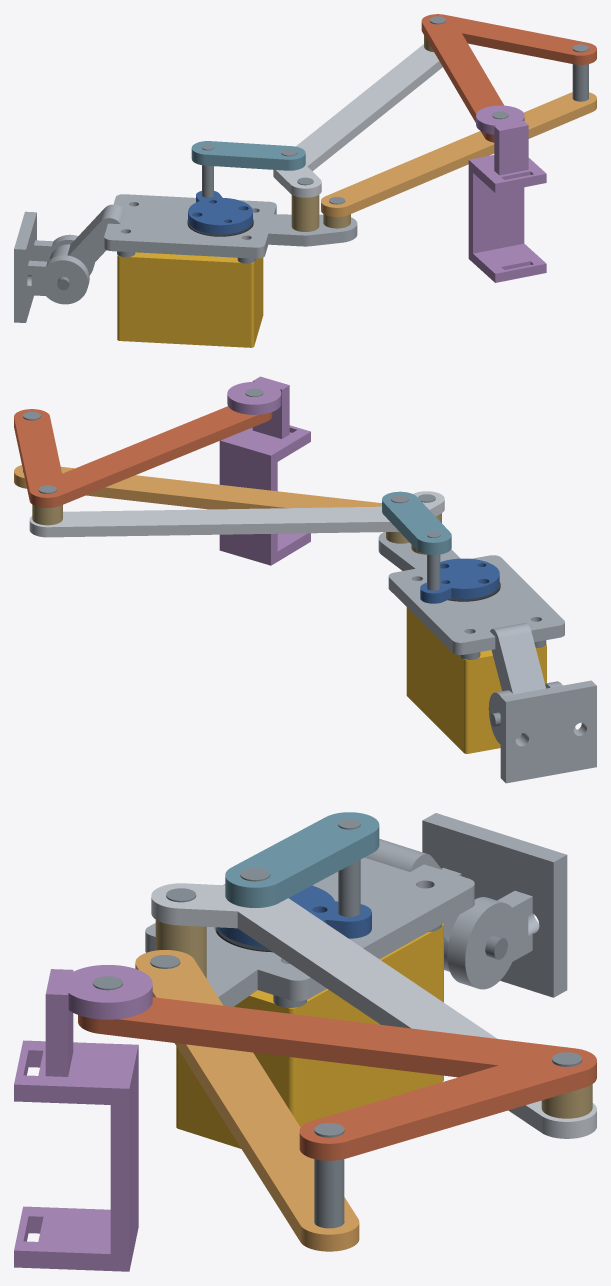
Rendered from thumb_straight.glb.
3 renders of one model, top to bottom at view 1: azimuth 30°, elevation 25°; view 2: azimuth 150°, elevation 25°; view 3: azimuth 270°, elevation 25°, orthographic. The views are drawn at different scales.
Parts seen in each view (by area): view 1: 09_DC15_A01_reference_envelope, 01_servo_carrier_ADE_and_hinge_rotor, 08_distal_saddle_R4, 06_output_FGH, 05_coupler_EF, 04_rocker_CDG, 11_palm_hinge_clevis_interface, 03_coupler_BC, 02_input_AB_servo_disc, spacer_D, pin_F, pin_B; view 2: 01_servo_carrier_ADE_and_hinge_rotor, 06_output_FGH, 04_rocker_CDG, 11_palm_hinge_clevis_interface, 08_distal_saddle_R4, 09_DC15_A01_reference_envelope, 05_coupler_EF, 03_coupler_BC, 02_input_AB_servo_disc, pin_B, spacer_G; view 3: 06_output_FGH, 08_distal_saddle_R4, 11_palm_hinge_clevis_interface, 04_rocker_CDG, 05_coupler_EF, 01_servo_carrier_ADE_and_hinge_rotor, 09_DC15_A01_reference_envelope, 03_coupler_BC, pin_F, 02_input_AB_servo_disc, spacer_D, pin_B (+1 smaller).
Part boxes in pixels (x1,y1,x2,y2): 09_DC15_A01_reference_envelope: (117, 252, 263, 347); 01_servo_carrier_ADE_and_hinge_rotor: (49, 194, 357, 270); 08_distal_saddle_R4: (468, 105, 546, 282); 06_output_FGH: (421, 14, 596, 142); 05_coupler_EF: (321, 92, 596, 216); 04_rocker_CDG: (273, 44, 442, 197); 11_palm_hinge_clevis_interface: (14, 211, 94, 322); 03_coupler_BC: (191, 141, 305, 170); 02_input_AB_servo_disc: (188, 191, 252, 234); spacer_D: (291, 195, 319, 231); pin_F: (572, 44, 588, 101); pin_B: (202, 144, 213, 197); 01_servo_carrier_ADE_and_hinge_rotor: (378, 532, 564, 694); 06_output_FGH: (14, 406, 272, 507); 04_rocker_CDG: (29, 491, 444, 537); 11_palm_hinge_clevis_interface: (488, 680, 596, 783); 08_distal_saddle_R4: (219, 376, 310, 565); 09_DC15_A01_reference_envelope: (406, 607, 546, 753); 05_coupler_EF: (14, 465, 381, 509); 03_coupler_BC: (382, 491, 451, 554); 02_input_AB_servo_disc: (420, 558, 499, 603); pin_B: (427, 531, 440, 590); spacer_G: (32, 504, 62, 525); 06_output_FGH: (78, 997, 596, 1160); 08_distal_saddle_R4: (14, 965, 152, 1271); 11_palm_hinge_clevis_interface: (422, 813, 567, 997); 04_rocker_CDG: (151, 883, 596, 1138); 05_coupler_EF: (135, 950, 359, 1251); 01_servo_carrier_ADE_and_hinge_rotor: (145, 839, 474, 1006); 09_DC15_A01_reference_envelope: (176, 923, 443, 1148); 03_coupler_BC: (225, 812, 379, 907); pin_F: (314, 1123, 344, 1228); 02_input_AB_servo_disc: (217, 885, 371, 947); spacer_D: (155, 920, 206, 978); pin_B: (338, 818, 360, 916).
Bounding box in the file's own units: 157 × 51.8 × 77.97.
